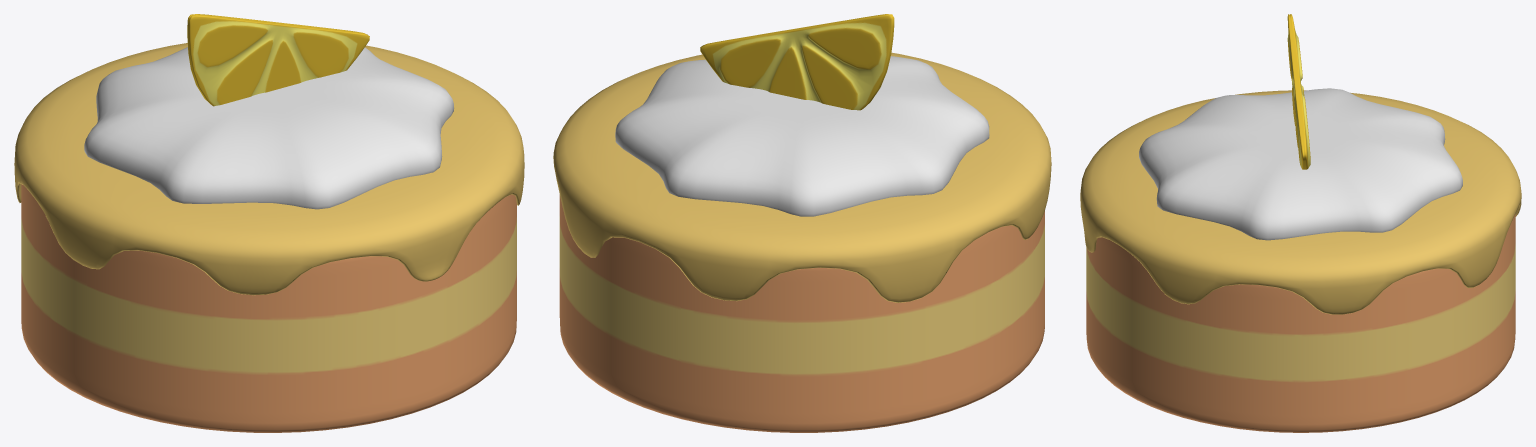
Rendered from round-cake-lemon.fbx.
3 renders of one model, left to right at view 1: azimuth 30°, elevation 25°; view 2: azimuth 150°, elevation 25°; view 3: azimuth 270°, elevation 25°, orthographic. The views are drawn at different scales.
Visible parts, largest first — view 1: round-cake-lemon, round-cake.003, Circle.001, lemon; view 2: round-cake-lemon, round-cake.003, Circle.001, lemon; view 3: round-cake-lemon, round-cake.003, Circle.001, lemon.
Part boxes in pixels (left/top/right/bottom): round-cake-lemon: left=21, top=184, right=516, bottom=432; round-cake.003: left=14, top=43, right=524, bottom=295; Circle.001: left=84, top=47, right=454, bottom=209; lemon: left=187, top=14, right=369, bottom=106; round-cake-lemon: left=559, top=195, right=1044, bottom=432; round-cake.003: left=553, top=52, right=1051, bottom=302; Circle.001: left=615, top=56, right=989, bottom=216; lemon: left=700, top=14, right=894, bottom=110; round-cake-lemon: left=1086, top=214, right=1515, bottom=432; round-cake.003: left=1080, top=90, right=1521, bottom=314; Circle.001: left=1139, top=88, right=1462, bottom=240; lemon: left=1287, top=14, right=1310, bottom=169.
Bounding box in the file's own units: 317 × 236 × 317.
